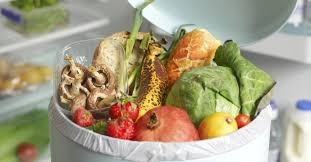kitchen_waste: (164, 63, 254, 118), (85, 25, 128, 112), (166, 19, 219, 86), (132, 104, 201, 148), (135, 43, 168, 123), (52, 53, 86, 107), (104, 98, 144, 143), (196, 106, 243, 141), (69, 105, 94, 130)
